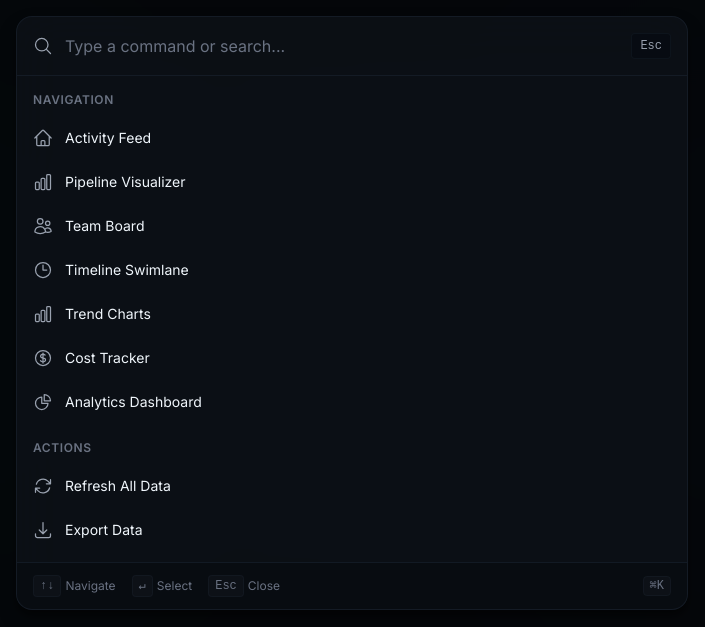
Scenario: CommandPalette › shows "No commands found" when no matches
The width and height of the screenshot is (705, 627).
Type "zzzzz" into the field with placeholder "Type a command or search..." at point(342, 46), box top-left (65, 34), bottom-right (619, 58)
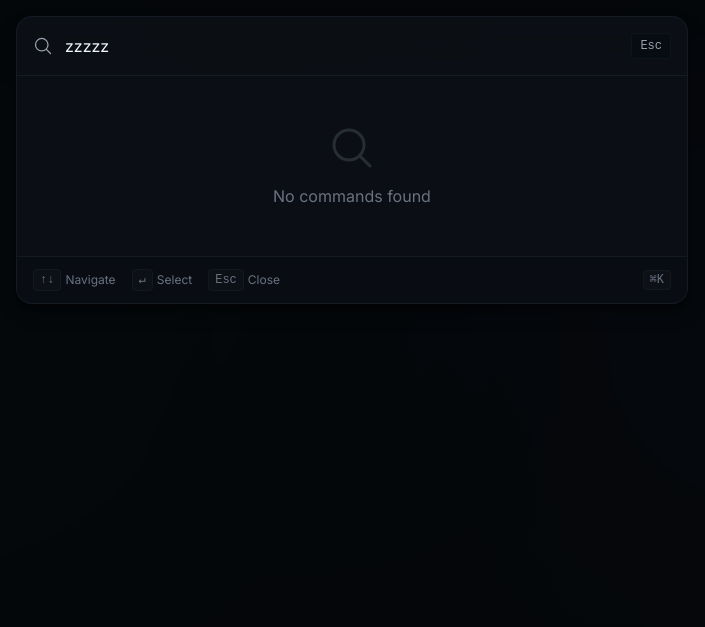
Now the text "No commands found" is shown, box top-left (273, 186), bottom-right (431, 206)
